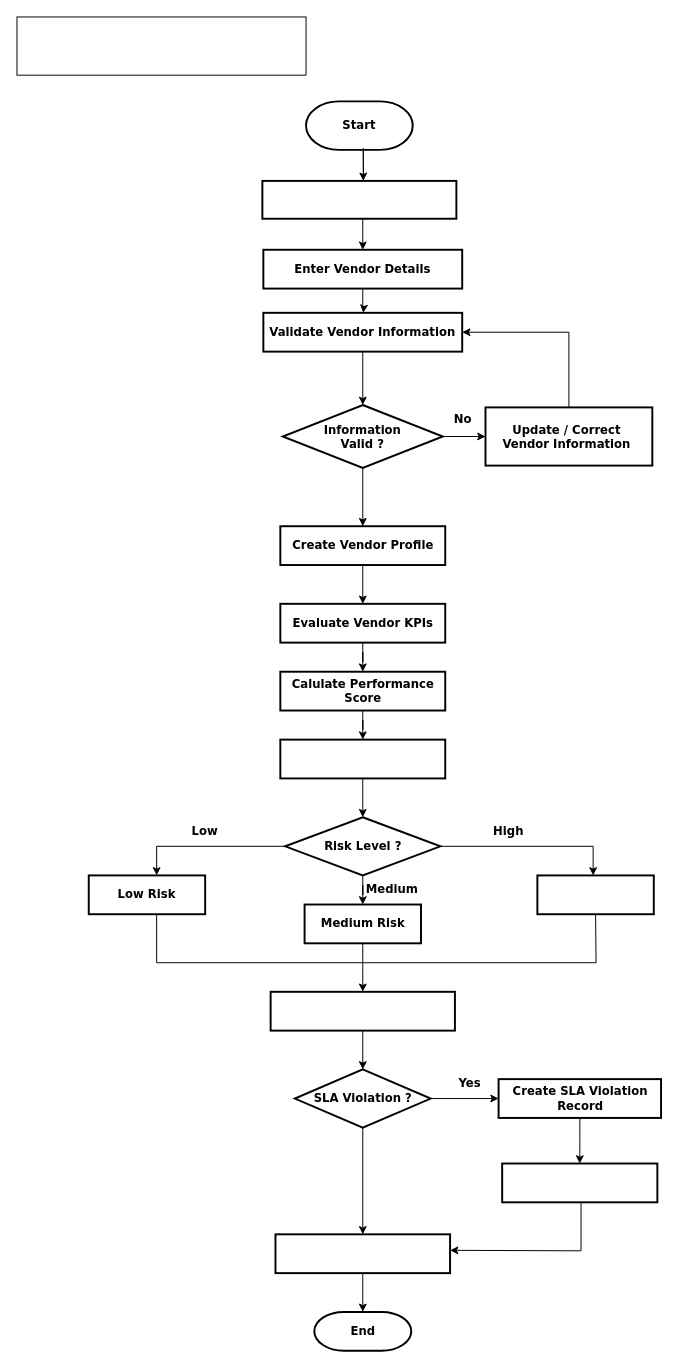
Image size: 679x1369. Some labels were removed from this diagram. The shapes that lost their labels are listed below. From the top down, each one's box as (x1, y1, x2, y2) in pixels, then its label:
(16, 16, 306, 75): VendorPulse – Vendor Management Process Flow
(261, 179, 457, 219): Vendor Registration
(279, 738, 446, 779): Assess Vendor Risk
(536, 874, 654, 915): High Risk
(269, 990, 455, 1031): Monitor SLA Compliance
(501, 1162, 658, 1203): Corrective Action
(274, 1233, 451, 1274): Continue Vendor Monitoring
